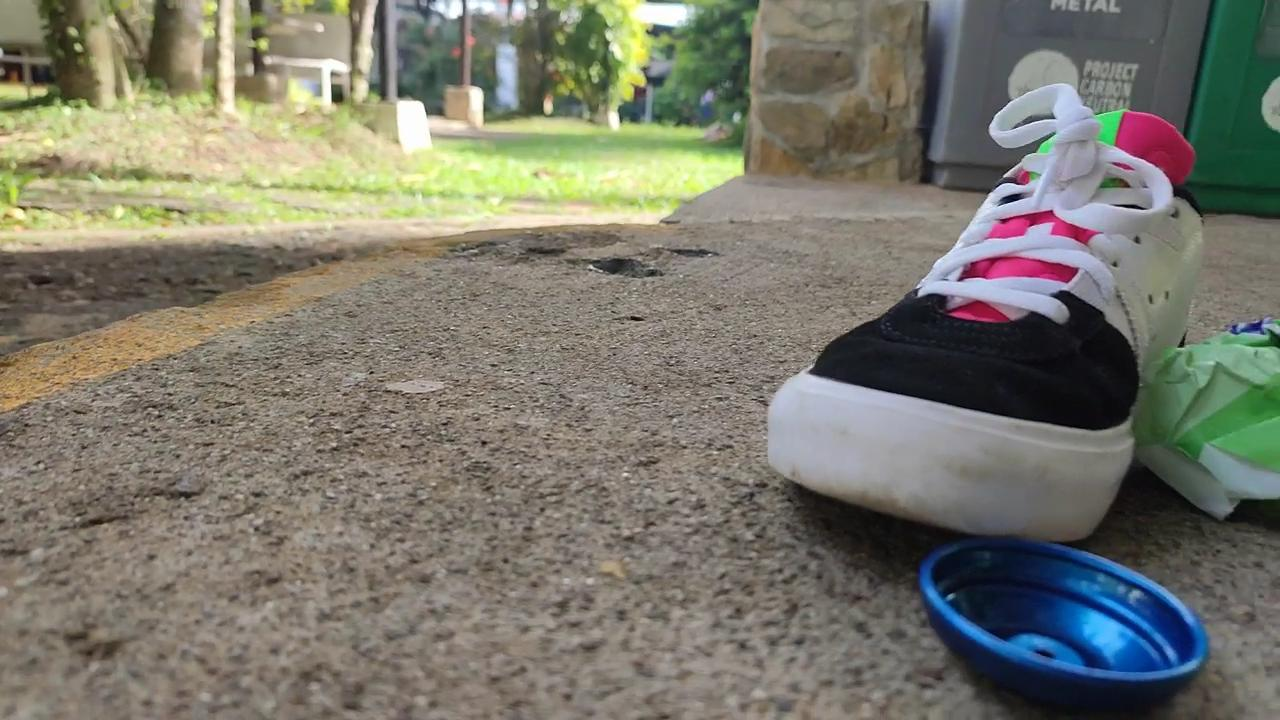Paper: (1129, 297, 1280, 531)
